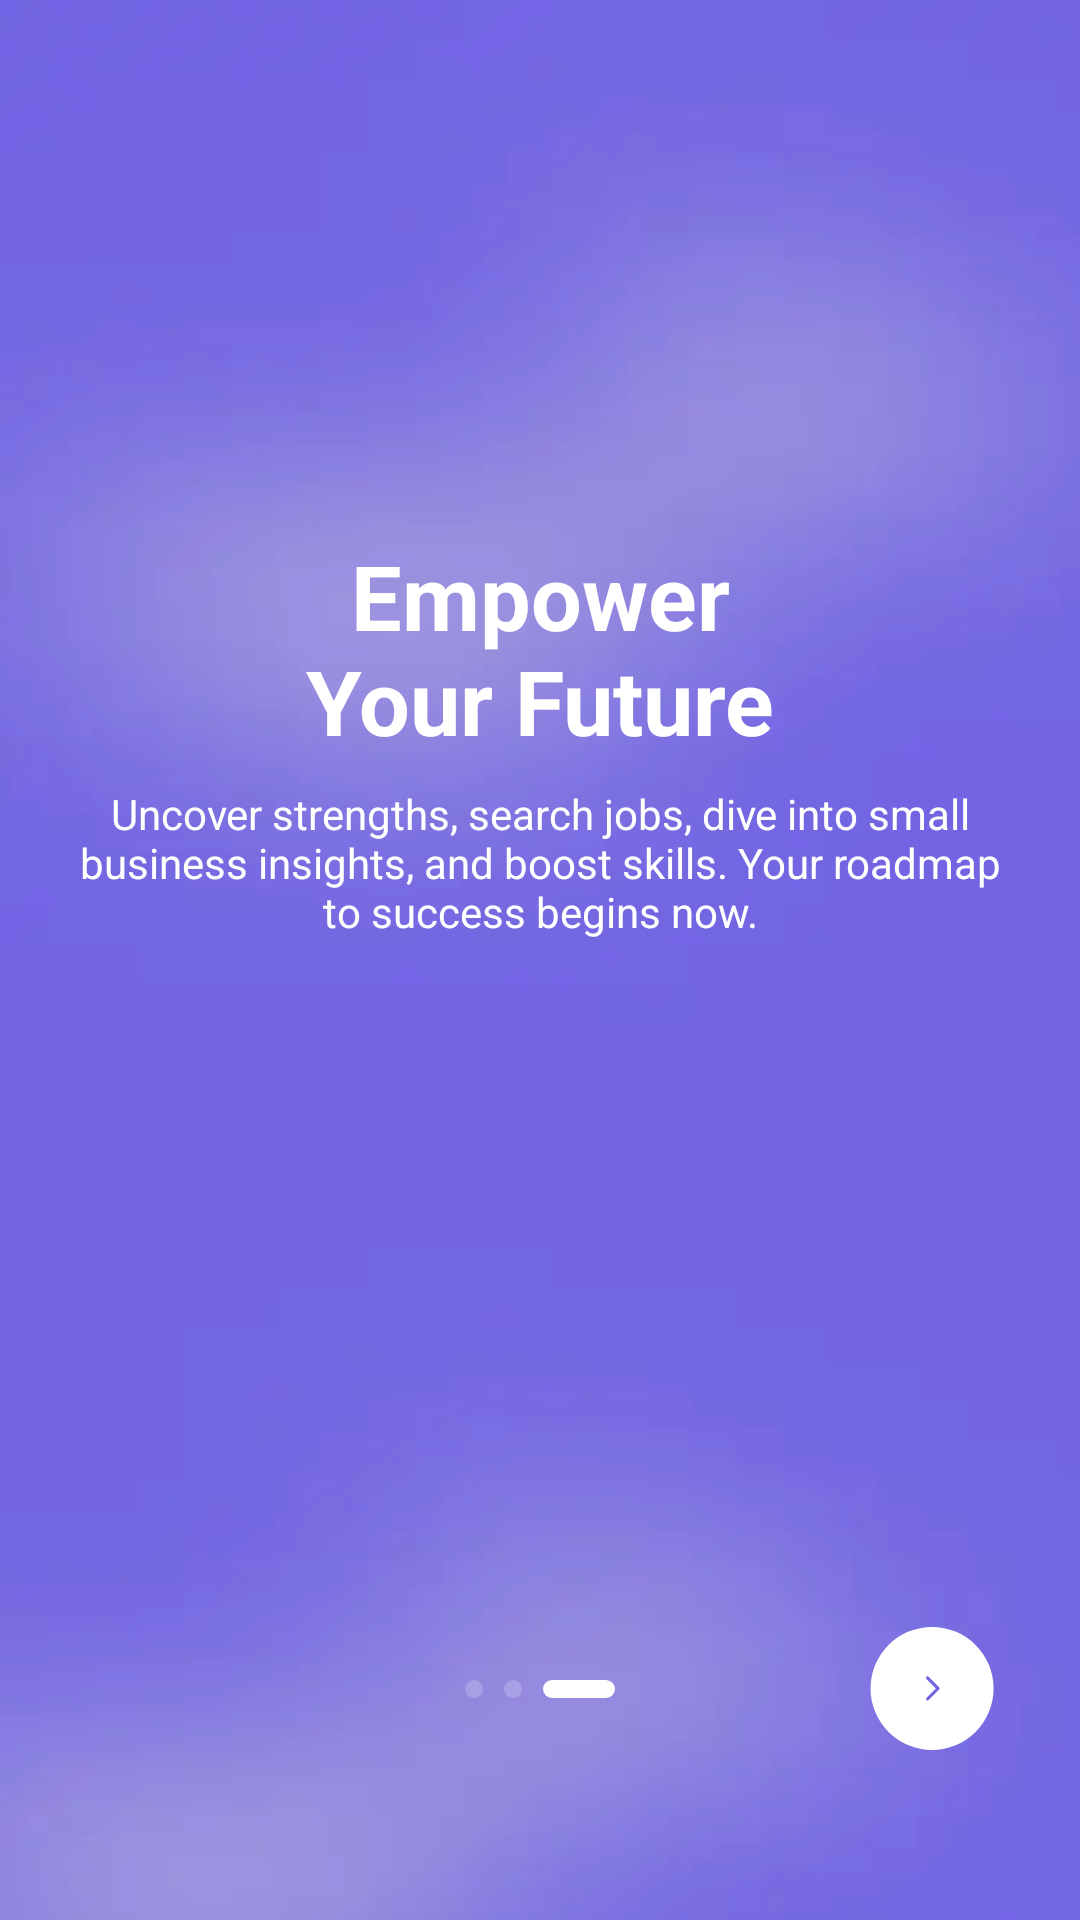

Icon bounding boxes for this 1080x1920 phone screenshot, format (x1, y1, x2, y2):
next: (870, 1627, 994, 1750)
